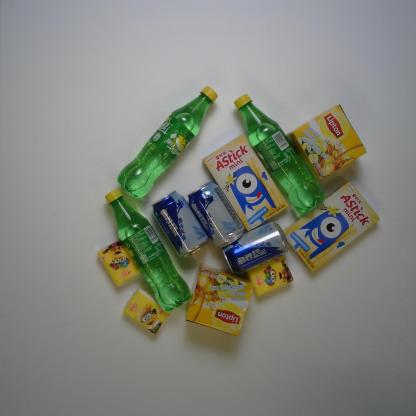Alcohol: (188, 178, 245, 247), (152, 190, 210, 256), (226, 226, 292, 278)
Dessert: (284, 178, 382, 271), (204, 132, 285, 226)
Drink: (112, 83, 221, 196), (233, 87, 324, 218), (103, 187, 192, 313)
Instant Drink: (290, 98, 366, 178), (186, 265, 252, 336)
Tissue: (121, 289, 175, 335), (97, 237, 141, 286), (247, 258, 296, 299)
